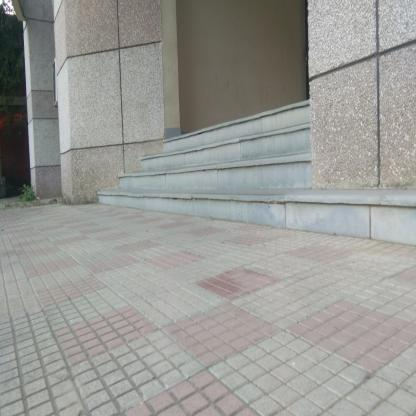stairs: (185, 135, 308, 232)
